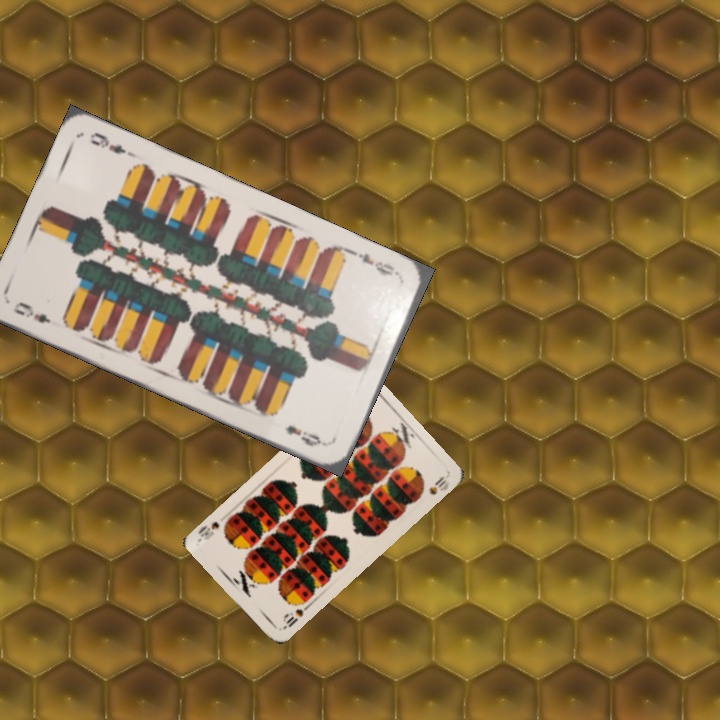E9: (348, 247, 404, 282), (10, 298, 54, 326)
S10: (278, 601, 311, 632)
